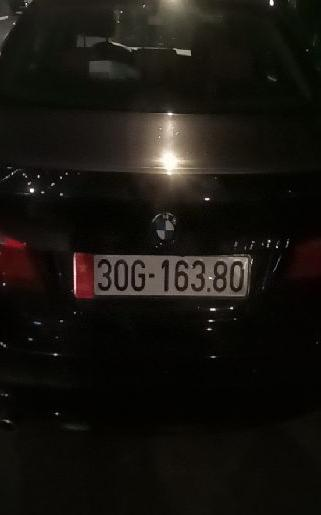Plate-iWeP: (90, 256, 250, 297)
